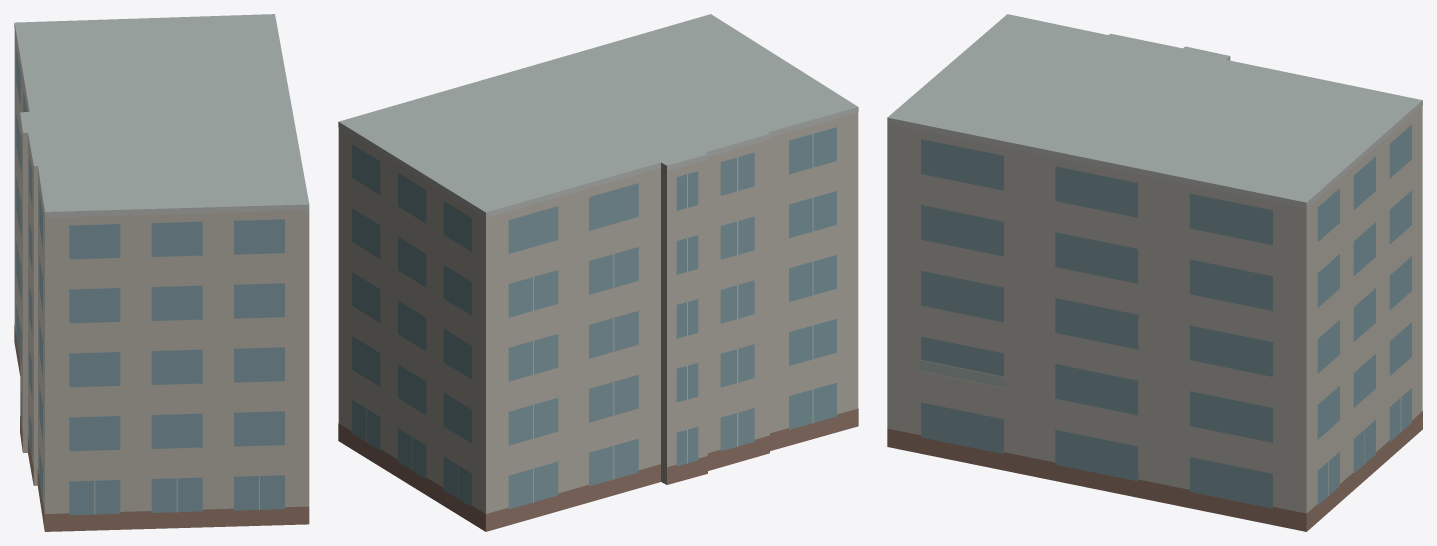
The model's file is survey-upis-32805009.glb.
The picture shows the model from 3 angles, left to right: view 1: azimuth 30°, elevation 25°; view 2: azimuth 150°, elevation 25°; view 3: azimuth 270°, elevation 25°; orthographic projection. The views are drawn at different scales.
Parts seen in each view (by area): view 1: survey-upis-32805009.tmp; view 2: survey-upis-32805009.tmp; view 3: survey-upis-32805009.tmp.
Boxes of the visible parts, x1,y1,x2,y2 form: survey-upis-32805009.tmp: [14, 14, 309, 531]; survey-upis-32805009.tmp: [338, 14, 858, 531]; survey-upis-32805009.tmp: [887, 14, 1422, 531].
Bounding box in the file's own units: 17.33 × 14.1 × 20.79.
